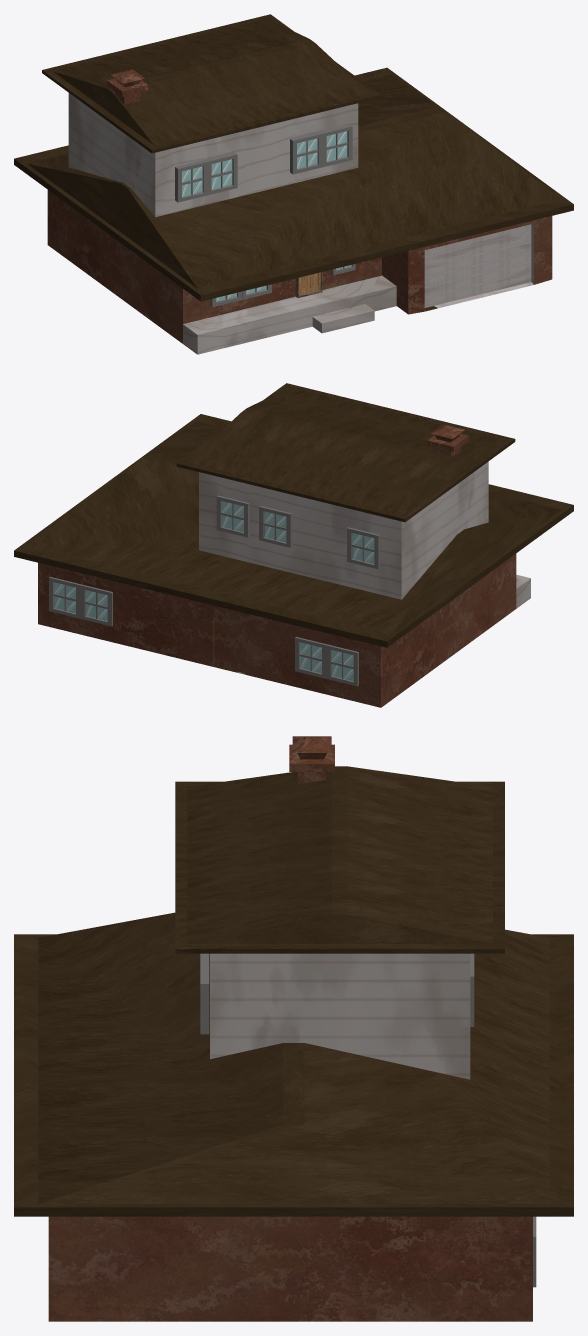
File: 2storyHouse.fbx
The picture shows the model from 3 angles, top to bottom: view 1: azimuth 30°, elevation 25°; view 2: azimuth 150°, elevation 25°; view 3: azimuth 270°, elevation 25°; orthographic projection. The views are drawn at different scales.
Parts seen in each view (by area): view 1: Cube, Cube.001, Plane.044, Plane.002, Plane.003, Plane.001, Cube.002; view 2: Cube, Cube.001, Plane.007, Plane.009, Plane.008, Plane.010, Plane.012, Plane.013, Plane.011, Cube.002; view 3: Cube, Cube.001, Cube.002, Plane.001.
Boxes of the visible parts, left/top/right/bottom form: Cube: left=42, top=14, right=552, bottom=354; Cube.001: left=14, top=67, right=573, bottom=301; Plane.044: left=290, top=131, right=322, bottom=174; Plane.002: left=175, top=159, right=207, bottom=202; Plane.003: left=205, top=152, right=237, bottom=195; Plane.001: left=320, top=124, right=352, bottom=166; Cube.002: left=107, top=69, right=148, bottom=104; Cube: left=38, top=383, right=530, bottom=707; Cube.001: left=14, top=414, right=573, bottom=647; Plane.007: left=216, top=495, right=249, bottom=540; Plane.009: left=347, top=527, right=379, bottom=569; Plane.008: left=259, top=506, right=291, bottom=547; Plane.010: left=326, top=644, right=358, bottom=689; Plane.012: left=80, top=584, right=112, bottom=629; Plane.013: left=49, top=577, right=80, bottom=621; Plane.011: left=295, top=637, right=326, bottom=681; Cube.002: left=427, top=424, right=468, bottom=456; Cube: left=48, top=766, right=532, bottom=1321; Cube.001: left=14, top=912, right=573, bottom=1216; Cube.002: left=289, top=736, right=334, bottom=784; Plane.001: left=200, top=962, right=209, bottom=1034.
Size of the model in its own units: 711 by 409 by 616.
Materials: 5 (5 with a texture image).
